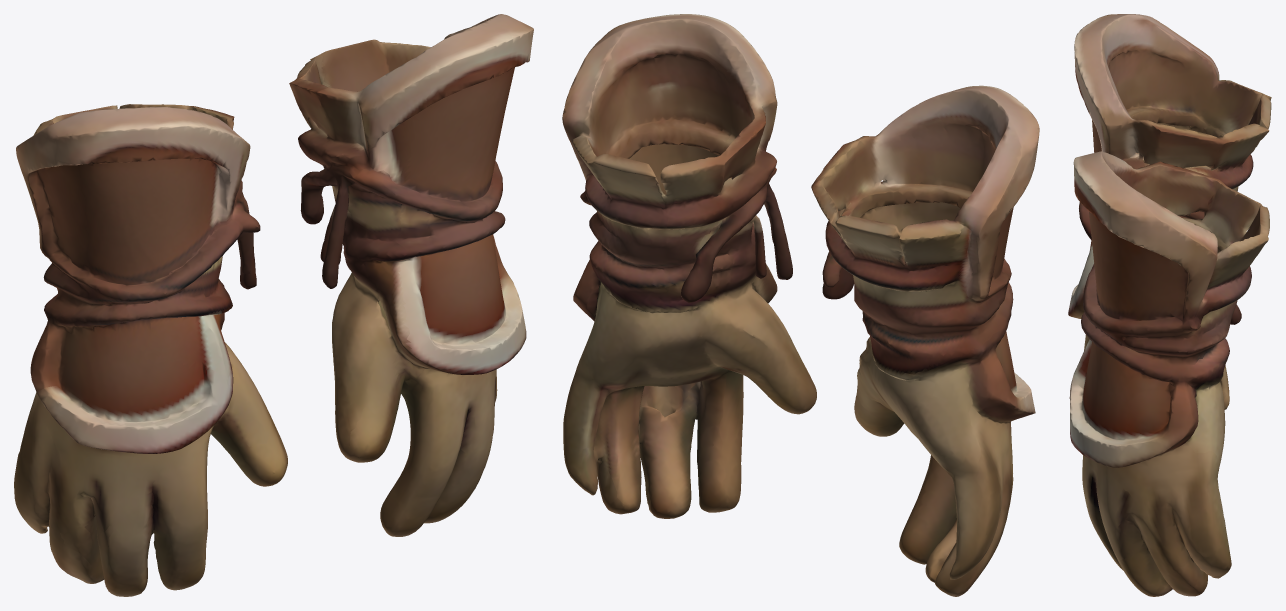
Rendered from luva-arqueiro.glb.
The picture shows the model from 3 angles, left to right: view 1: azimuth 30°, elevation 25°; view 2: azimuth 150°, elevation 25°; view 3: azimuth 270°, elevation 25°; orthographic projection. The views are drawn at different scales.
Visible parts, largest first — view 1: tripo_node_f950e674-797e-4c8a-a71c-9a79cf78cb66.001; view 2: tripo_node_f950e674-797e-4c8a-a71c-9a79cf78cb66.001; view 3: tripo_node_f950e674-797e-4c8a-a71c-9a79cf78cb66.001.
Part boxes in pixels (bbox=[...]): tripo_node_f950e674-797e-4c8a-a71c-9a79cf78cb66.001: bbox=[14, 14, 533, 596]; tripo_node_f950e674-797e-4c8a-a71c-9a79cf78cb66.001: bbox=[562, 14, 1039, 596]; tripo_node_f950e674-797e-4c8a-a71c-9a79cf78cb66.001: bbox=[1068, 14, 1271, 596].
Bounding box in the file's own units: 0.1657 × 0.1708 × 0.0721.
1 material, 1 textured.
